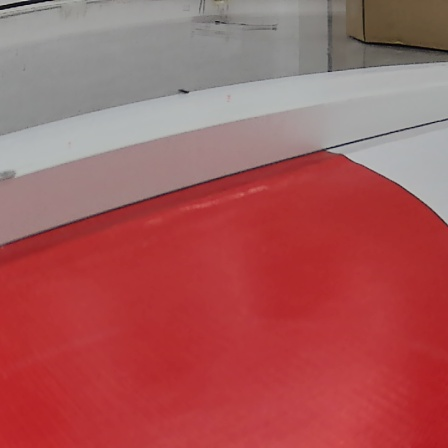red_base: (5, 149, 448, 448)
